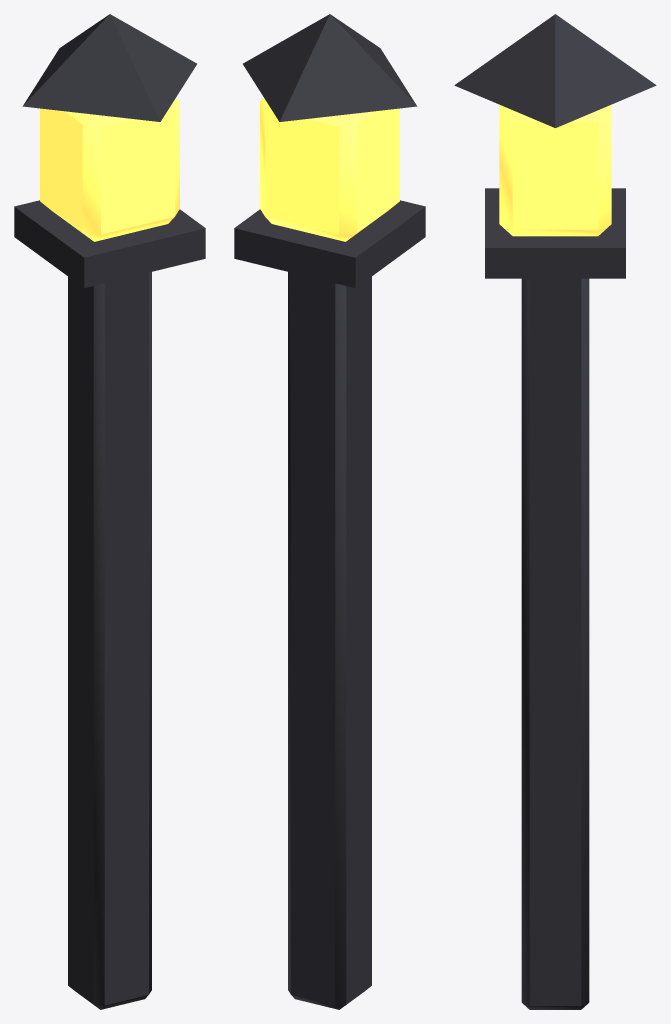
Rendered from lamp.glb.
3 views of the same model, side by side, from view 1: azimuth 30°, elevation 25°; view 2: azimuth 150°, elevation 25°; view 3: azimuth 270°, elevation 25° (orthographic).
Parts seen in each view (by area): view 1: building, light; view 2: building, light; view 3: building, light.
Boxes of the visible parts, box(x1,y1,x2,y2) form: building: box(14, 200, 205, 1009); light: box(22, 14, 196, 241); building: box(234, 200, 425, 1009); light: box(243, 14, 417, 241); building: box(485, 188, 625, 1009); light: box(454, 14, 656, 236).
Size of the model in its own units: 0.36 by 1.93 by 0.36.
